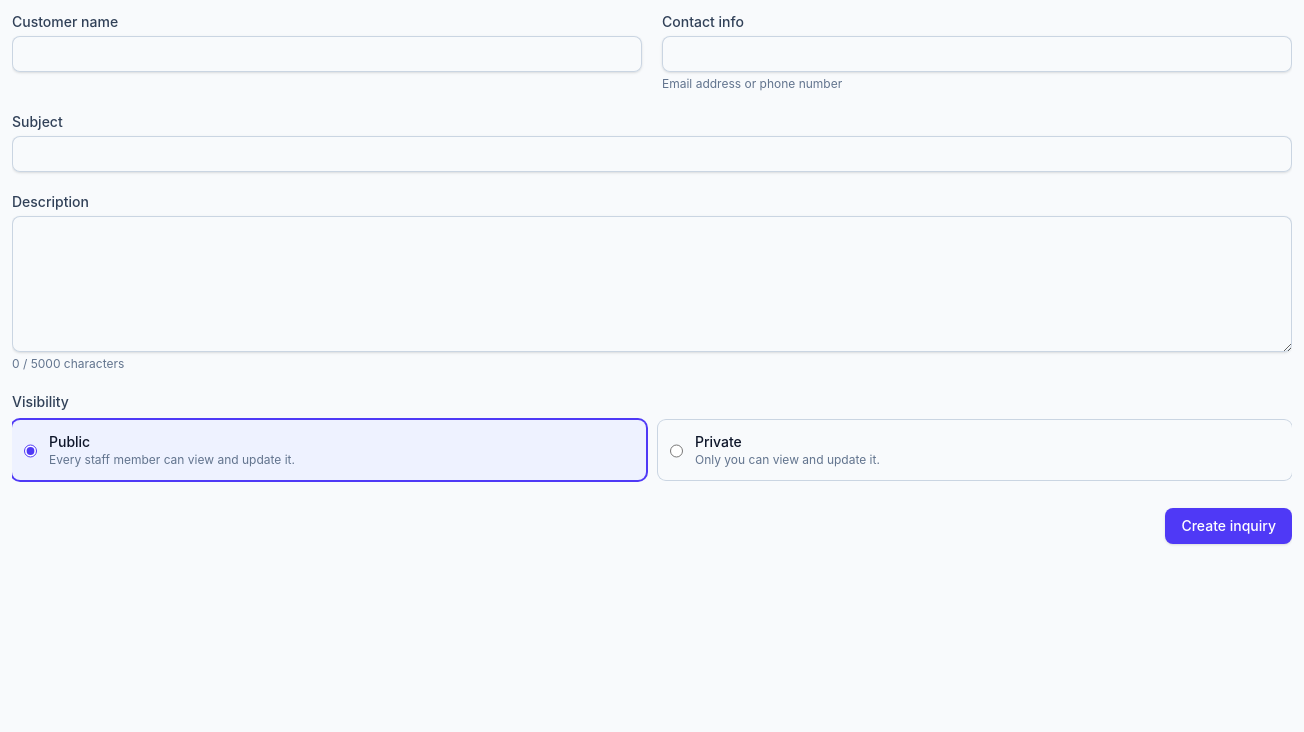
Scenario: InquiryForm (create inquiry) — Situation 1: invalid customer input › shows BACKEND validation errors under the matching field (backend is the authority)
This screenshot has width=1304, height=732.
In the field labelled "Customer name": (327, 54) x1=12 y1=36 x2=642 y2=72, type "  John Silva  "
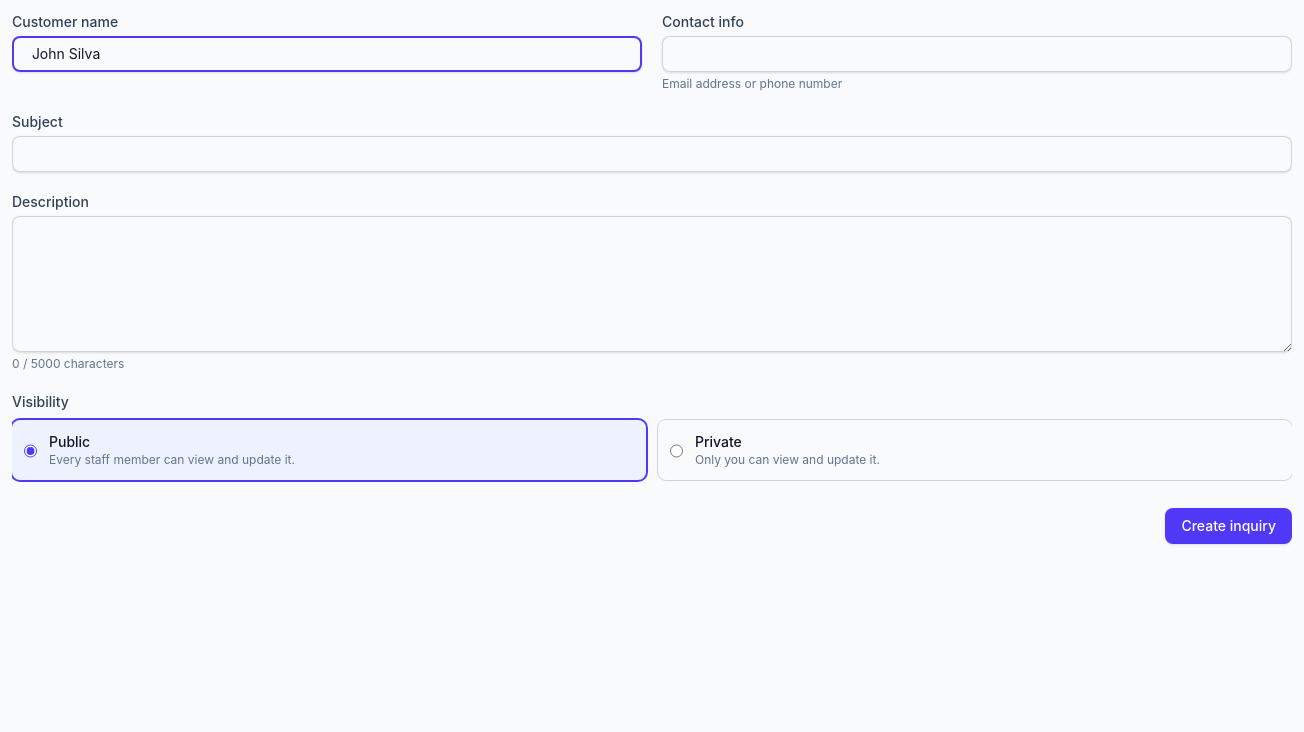
In the field labelled "Contact info": (977, 54) x1=662 y1=36 x2=1292 y2=72, type "077 123 4567"
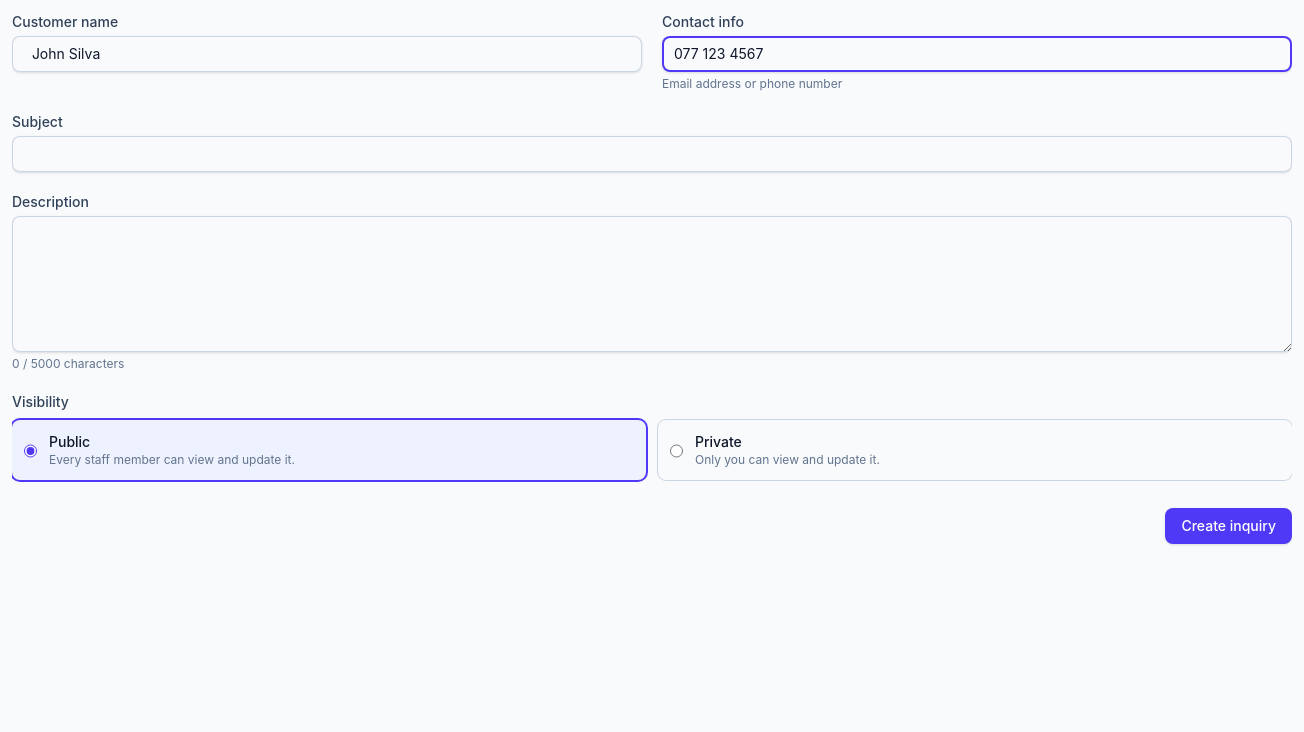
In the field labelled "Subject": (652, 154) x1=12 y1=136 x2=1292 y2=172, type "Service inquiry"
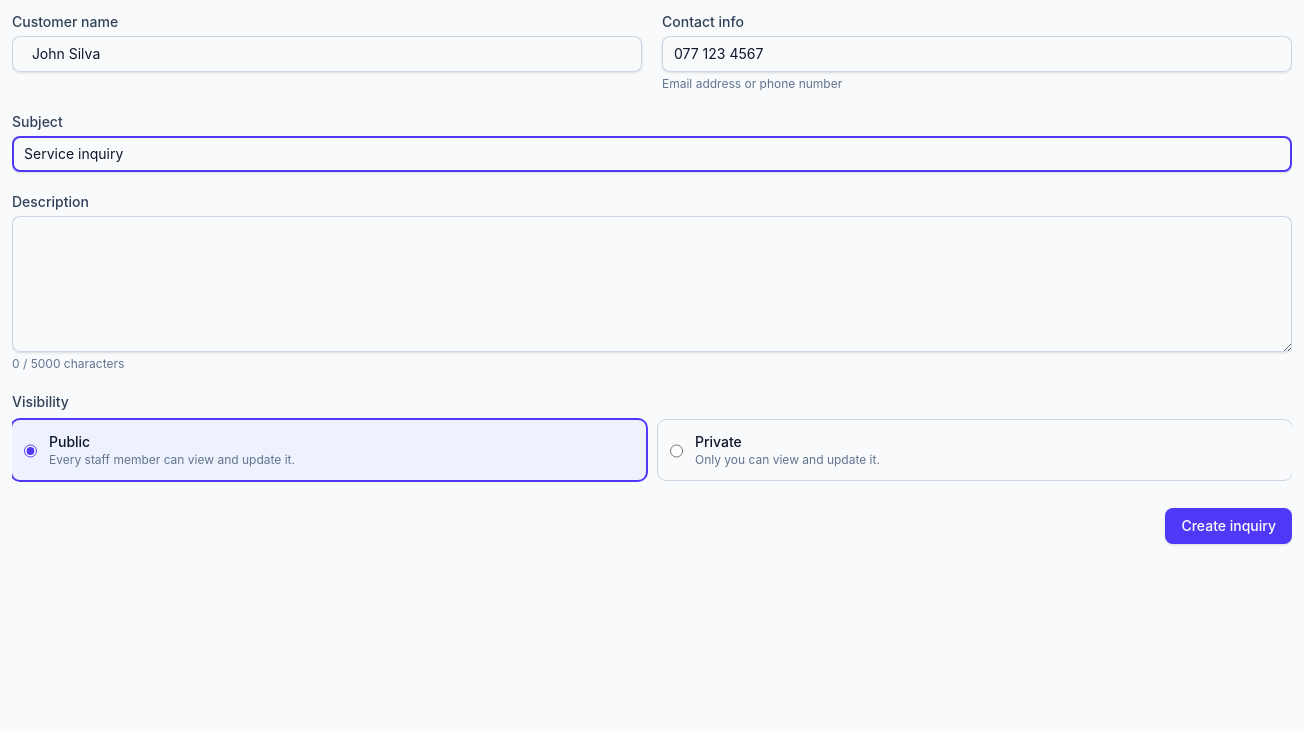
In the text box labelled "Description": (652, 284) x1=12 y1=216 x2=1292 y2=352, type "Customer wants information about the service."
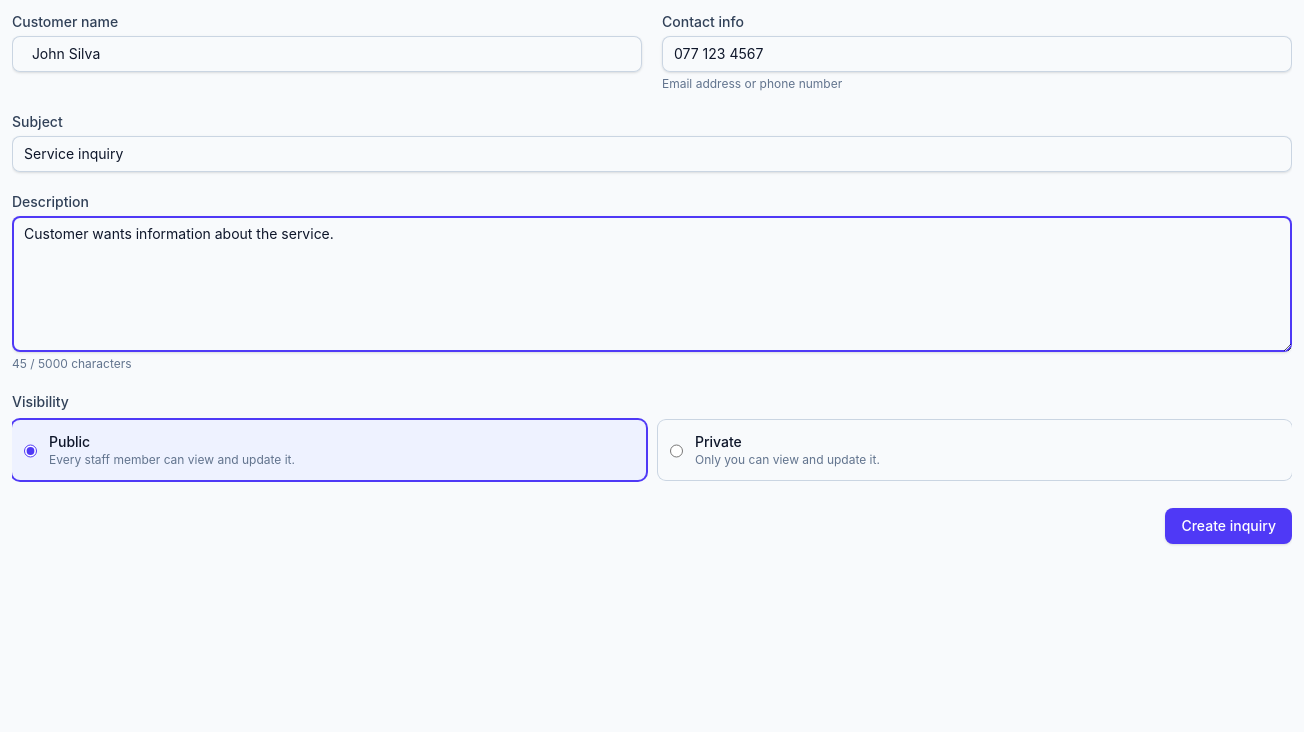
Click the button "Create inquiry": click(1229, 526) x1=1165 y1=508 x2=1292 y2=544
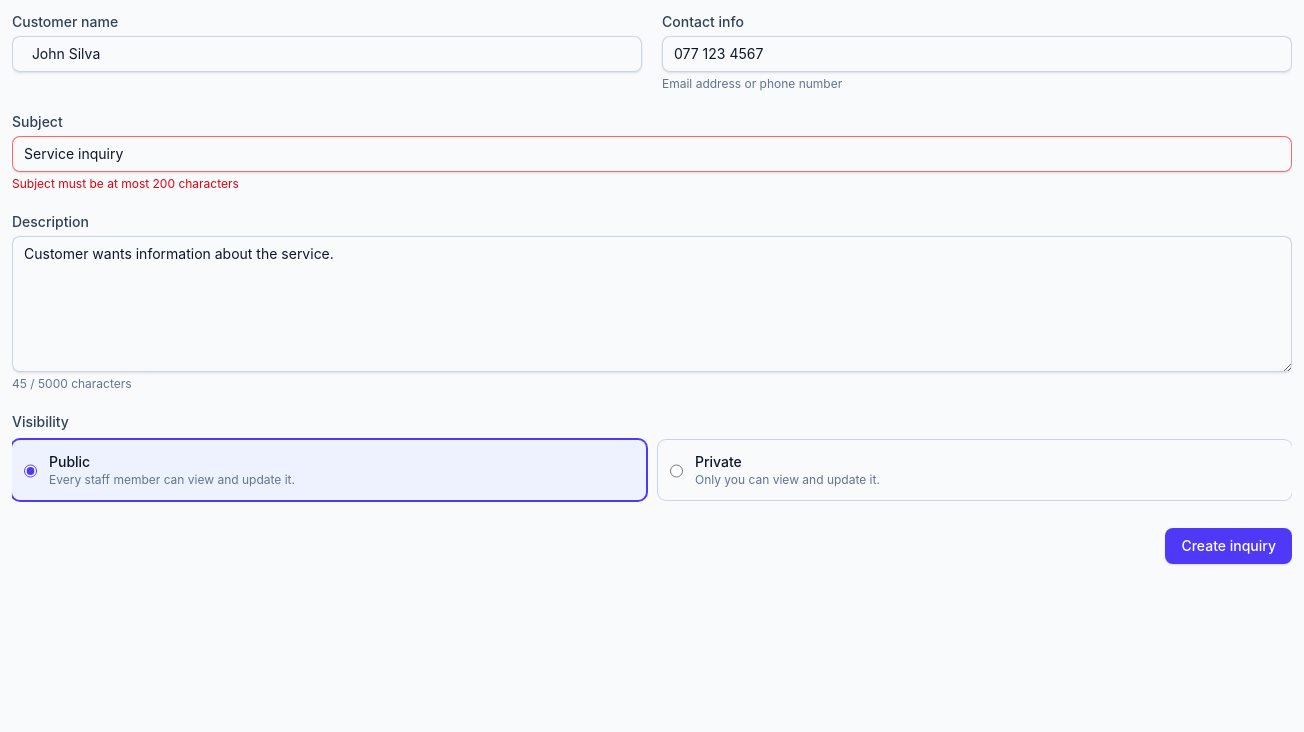
Expected: the text "Subject must be at most 200 characters" is shown, x1=12 y1=176 x2=239 y2=191
